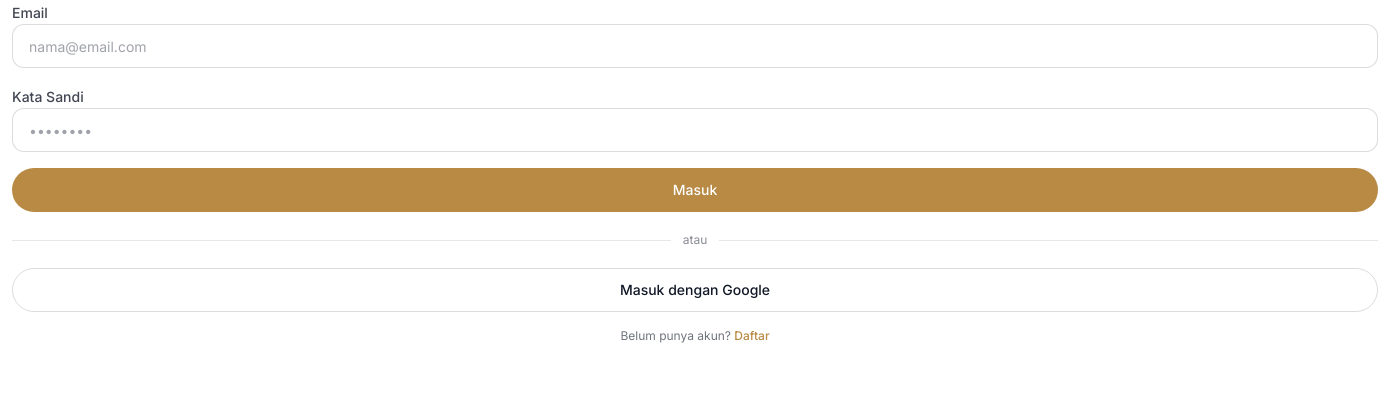
Scenario: AuthForm login mode › shows the sign-in error message on failure
The width and height of the screenshot is (1390, 408).
In the field labelled "Email": (695, 46) [12,24,1378,68], type "user@example.com"
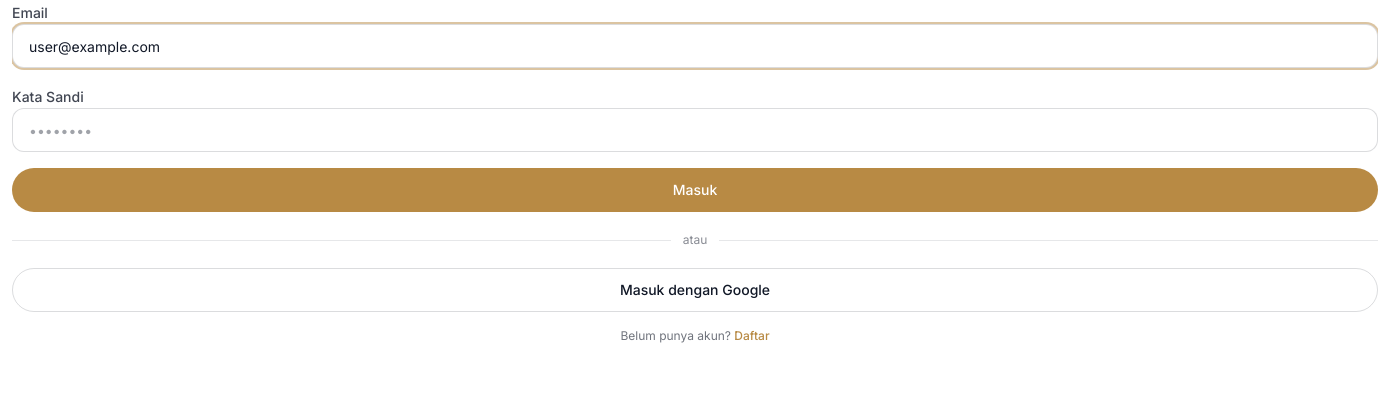
In the password field labelled "Kata Sandi": (695, 130) [12,108,1378,152], type "password123"
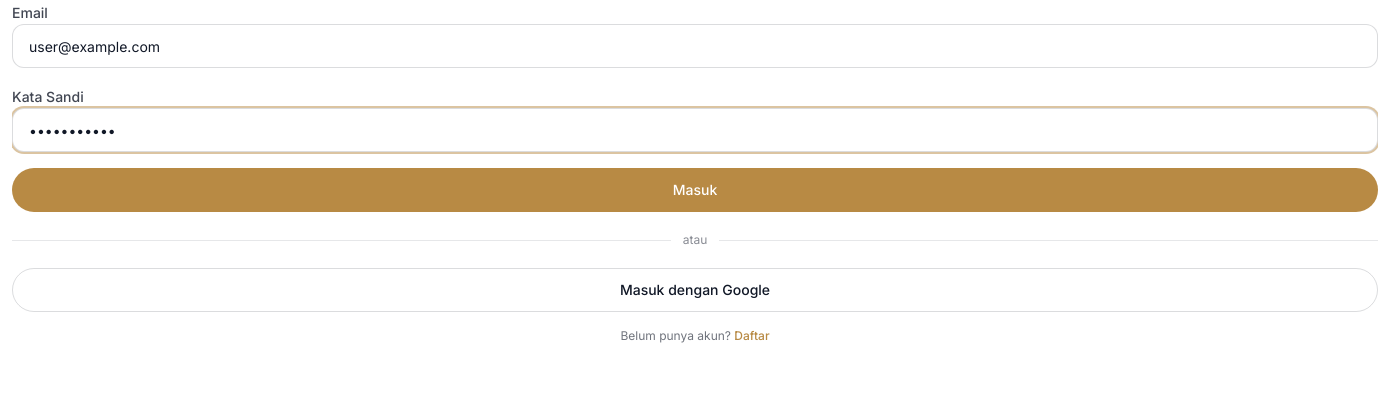
Click the button "Masuk": (695, 190) [12,168,1378,212]
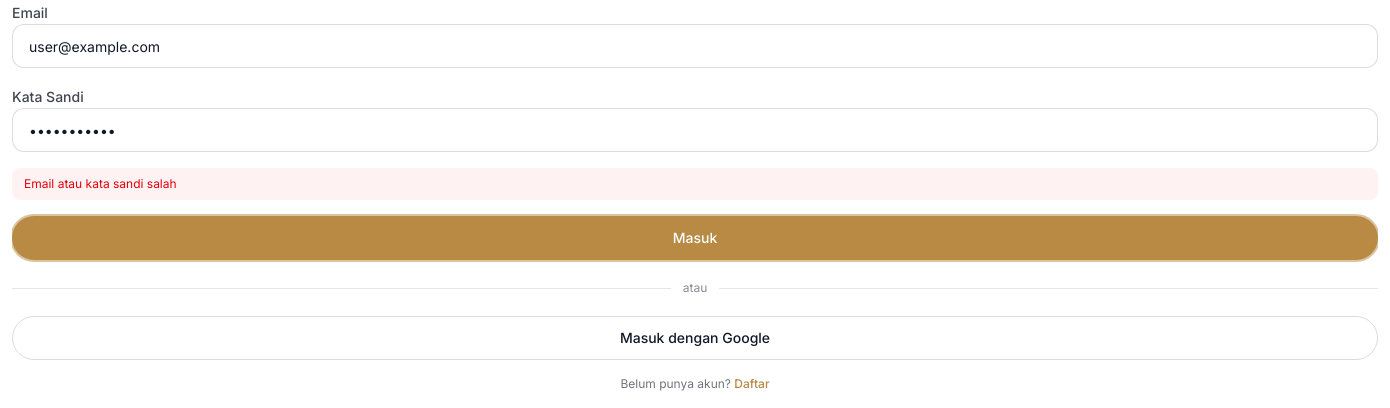
Expected: the text "Email atau kata sandi salah" is shown, [12,168,1378,200]
